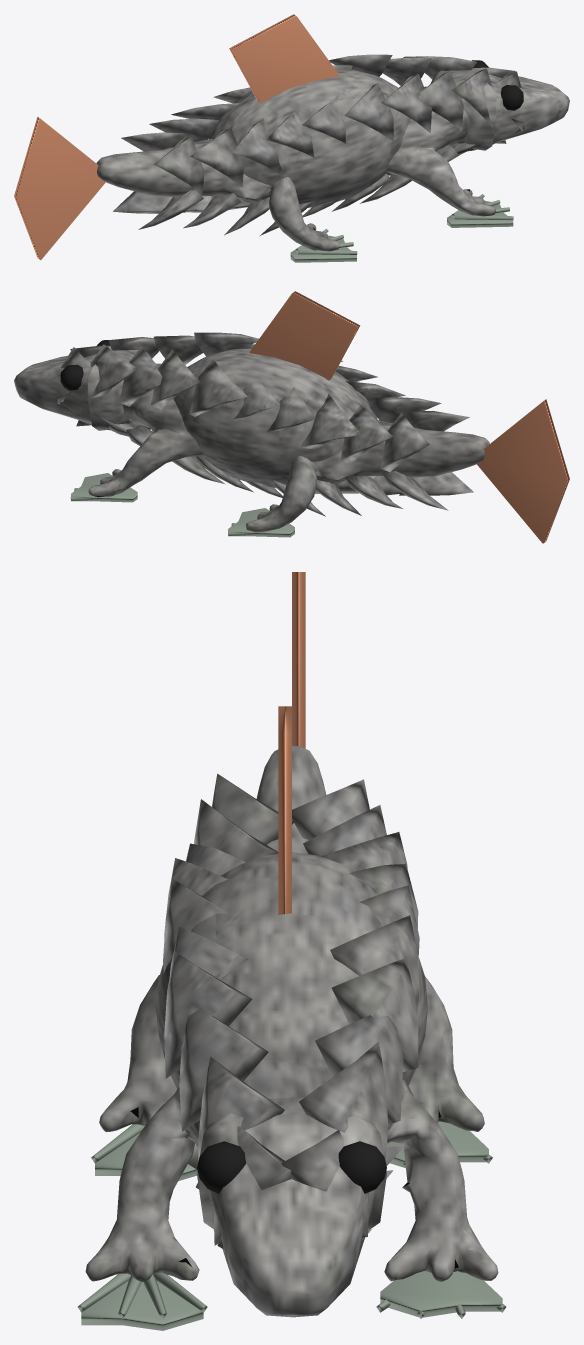
Rendered from fur-bearing-trout.glb.
3 views of the same model, one above another, from view 1: azimuth 30°, elevation 25°; view 2: azimuth 150°, elevation 25°; view 3: azimuth 270°, elevation 25° (orthographic). The views are drawn at different scales.
Visible parts, largest first — view 1: fur-bearing-trout.001; view 2: fur-bearing-trout.001; view 3: fur-bearing-trout.001.
Part boxes in pixels (x1=…): fur-bearing-trout.001: x1=14, y1=14, x2=569, y2=262; fur-bearing-trout.001: x1=14, y1=291, x2=569, y2=543; fur-bearing-trout.001: x1=77, y1=572, x2=506, y2=1330.
Size of the model in its own units: 0.931 by 0.349 by 0.316.
Materials: 4 (1 with a texture image).
